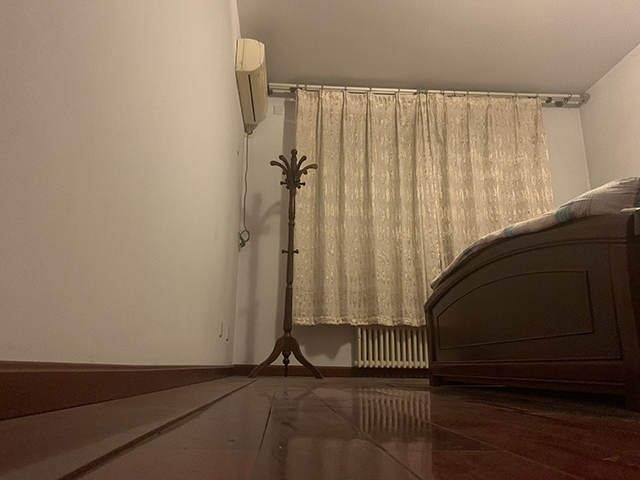bed: (421, 176, 640, 414)
curtain: (293, 84, 435, 331)
